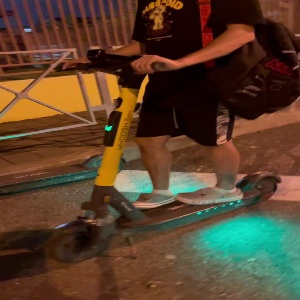human on a scooter: (44, 1, 300, 263)
